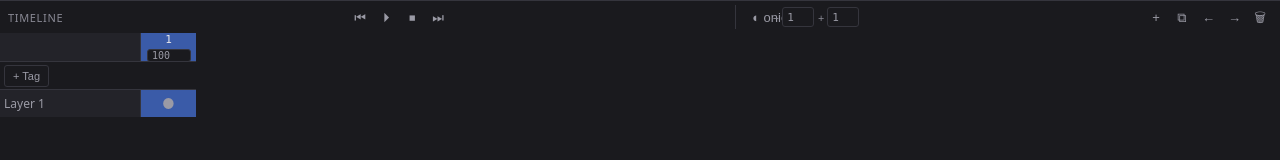
Test case: tags › shows the tag as a colored span over its frame range in the grid
This screenshot has width=1280, height=160.
Click the button "+".
click(1156, 17)  # box [1144, 5, 1168, 29]
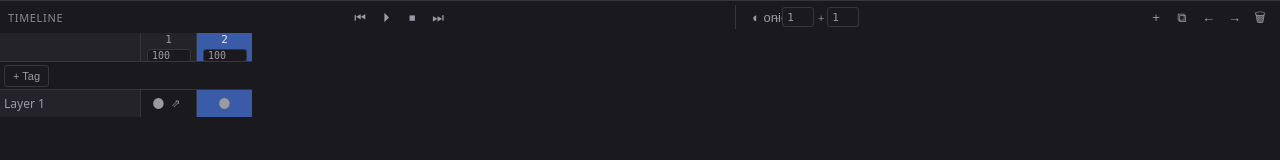
Click the button "+".
click(1156, 17)  # box [1144, 5, 1168, 29]
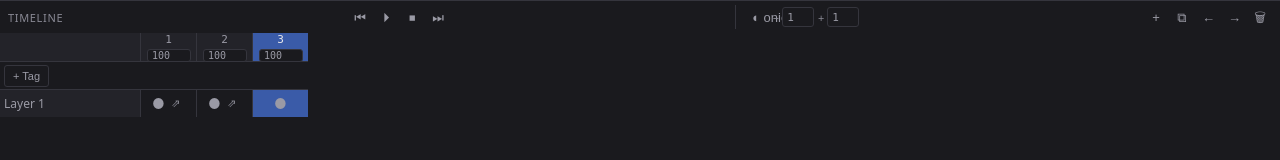
Click the button "+".
click(1156, 17)  # box [1144, 5, 1168, 29]
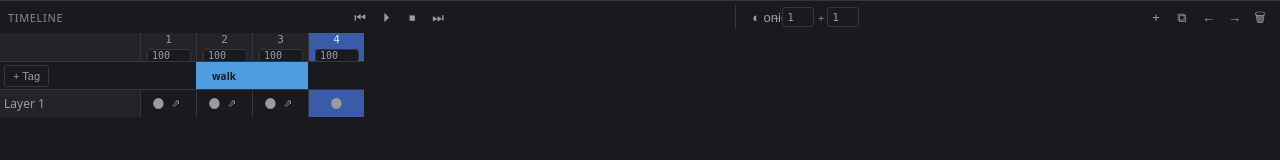
Check: the text with class "timeline-tag-name" reads "walk", box [212, 68, 236, 82]
